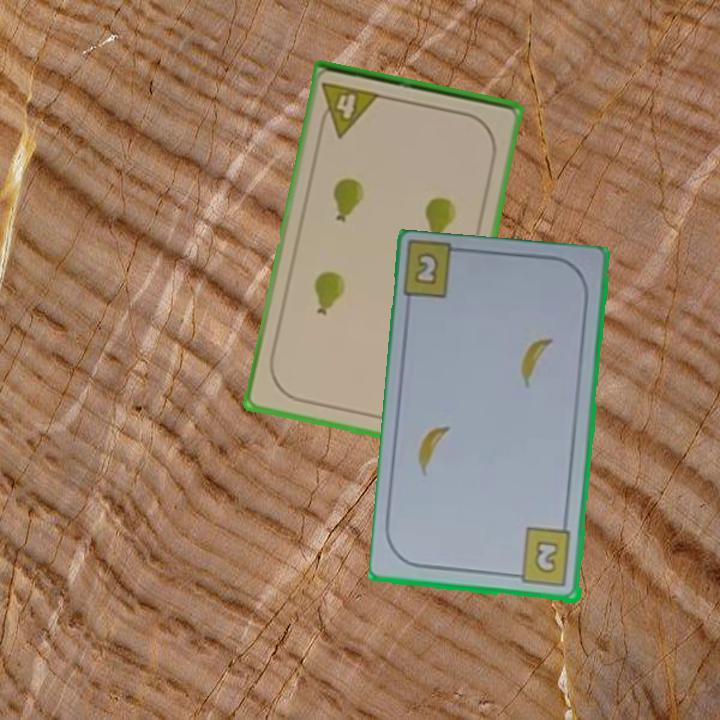2b: (509, 525, 575, 590), (411, 248, 442, 288)
4p: (315, 79, 383, 140)
